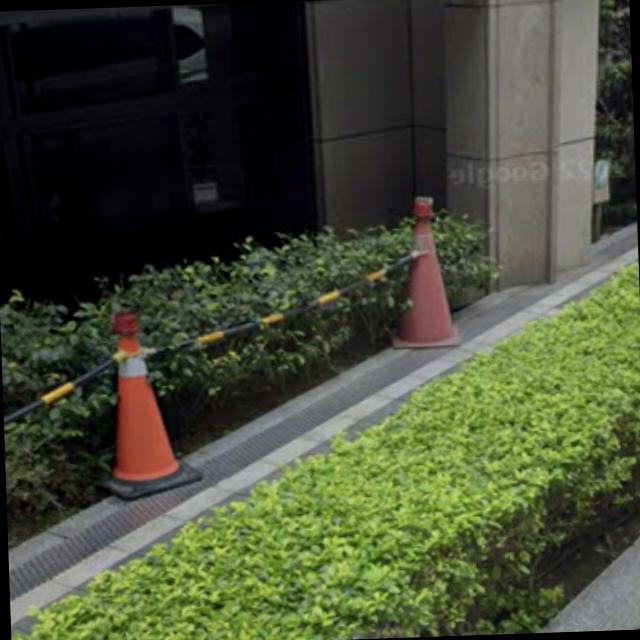cone: (102, 321, 191, 482), (394, 212, 467, 344)
